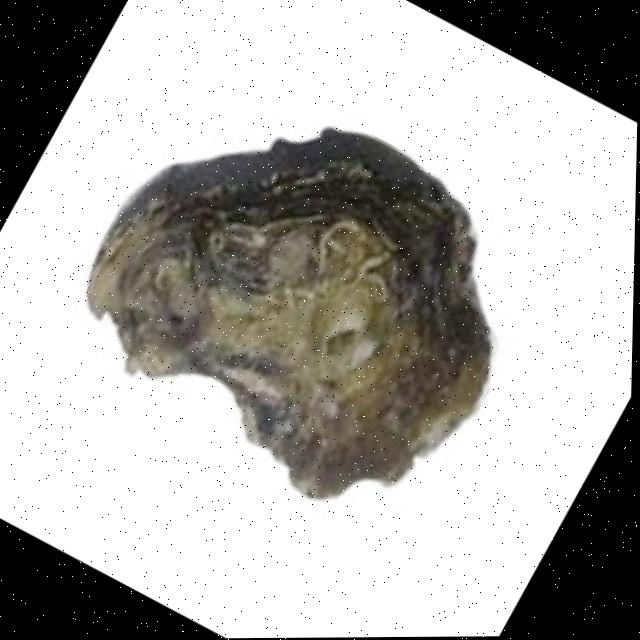Oyster-Indeterminate: (83, 127, 491, 503)
